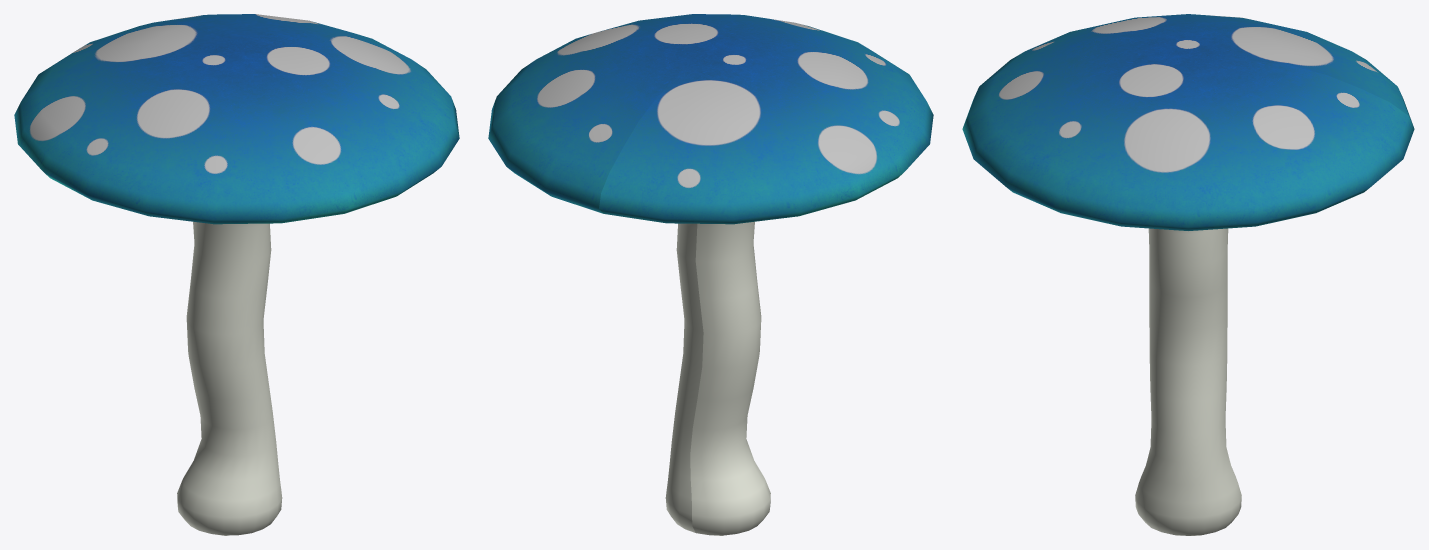
The model's file is Cogumelao azul.fbx.
3 views of the same model, side by side, from view 1: azimuth 30°, elevation 25°; view 2: azimuth 150°, elevation 25°; view 3: azimuth 270°, elevation 25° (orthographic).
Visible parts, largest first — view 1: Cylinder.001; view 2: Cylinder.001; view 3: Cylinder.001.
Part boxes in pixels (bbox=[...]): Cylinder.001: bbox=[14, 14, 459, 535]; Cylinder.001: bbox=[488, 14, 933, 535]; Cylinder.001: bbox=[962, 14, 1414, 535].
Size of the model in its own units: 491 by 568 by 491.
1 material, 1 textured.
